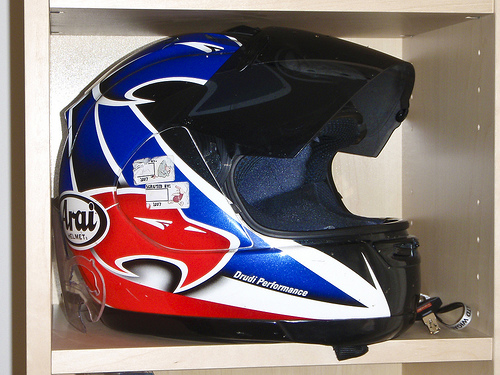helmet: (53, 35, 427, 337)
